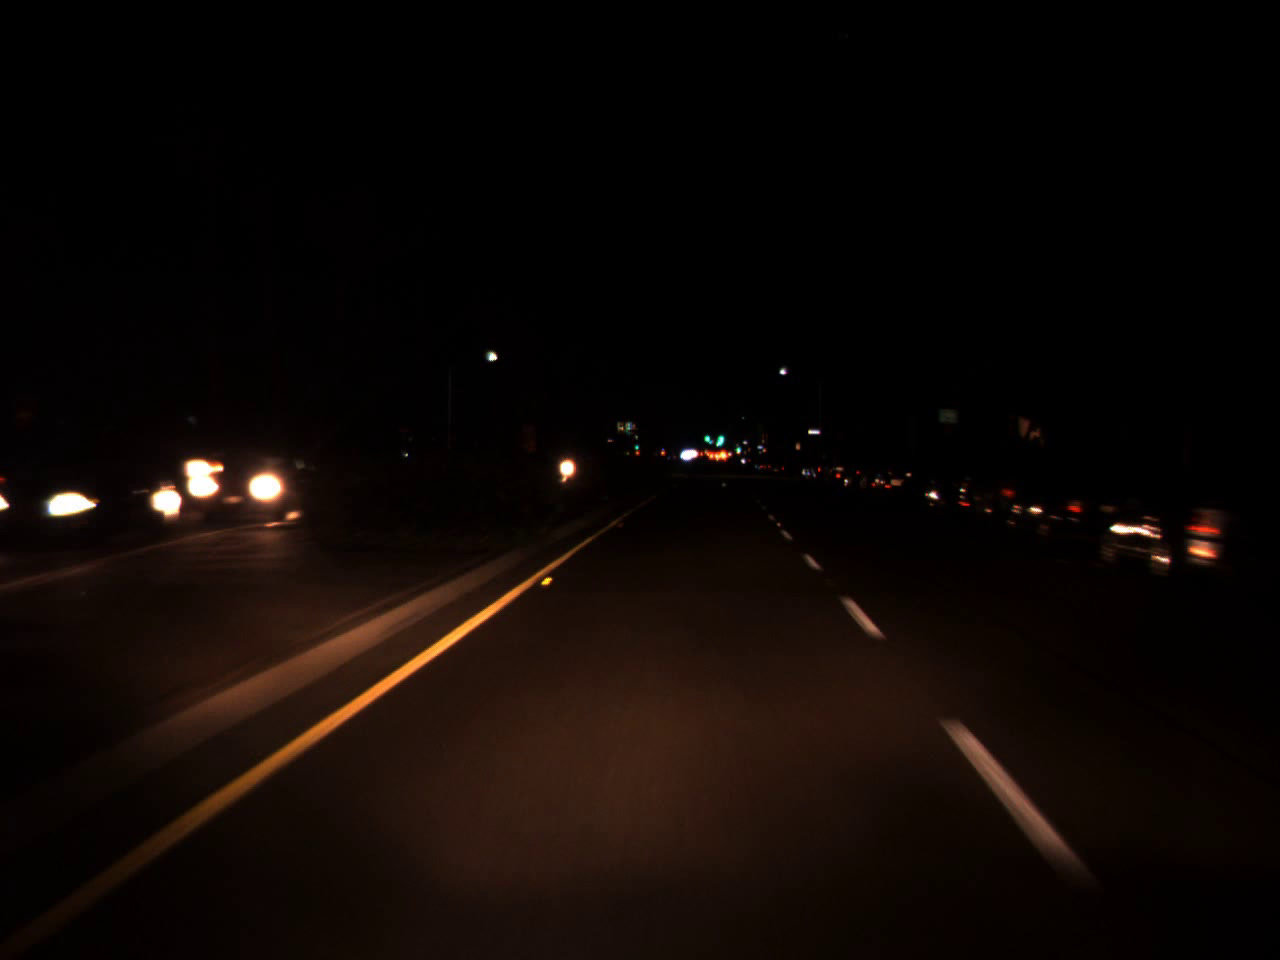go: (715, 427, 725, 445), (703, 427, 710, 445)
